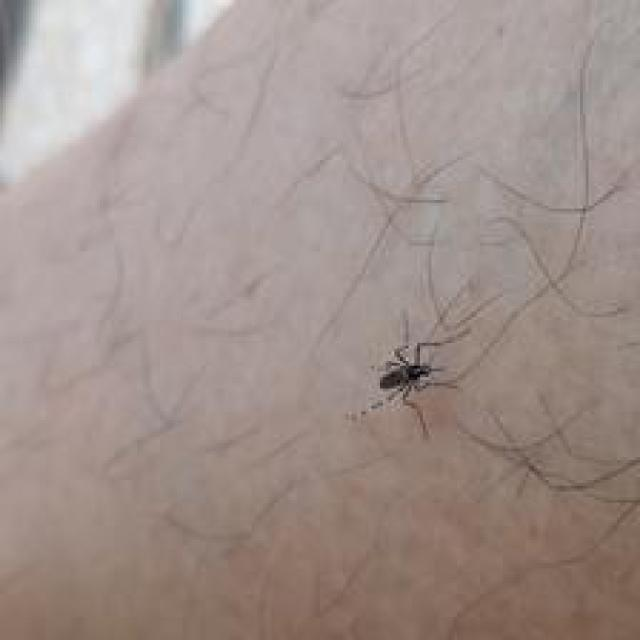Aedes albopictus: (356, 336, 461, 438)
